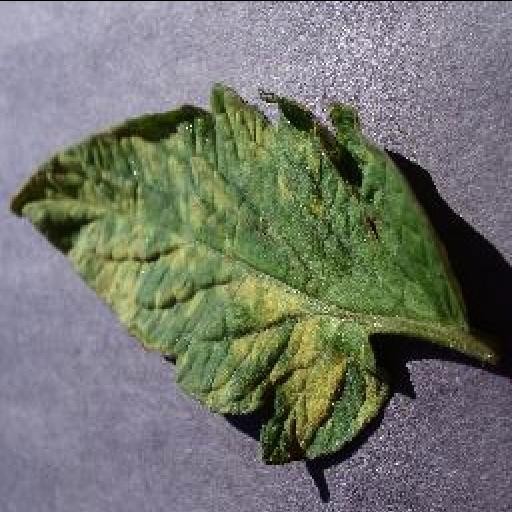disease_tomato: (0, 82, 472, 460)
